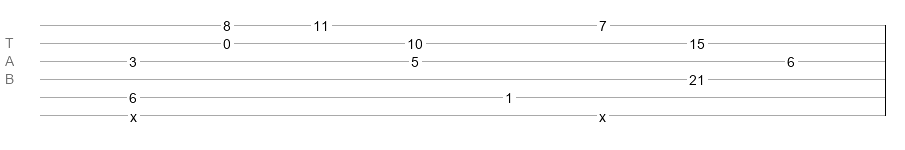0: (223, 36, 231, 46)
1: (505, 90, 513, 100)
10: (407, 36, 423, 46)
11: (313, 18, 329, 28)
15: (689, 36, 705, 46)
21: (689, 72, 705, 82)
3: (129, 54, 137, 64)
5: (411, 54, 419, 64)
6: (129, 90, 137, 100), (787, 54, 795, 64)
7: (599, 18, 607, 28)
8: (223, 18, 231, 28)
x: (130, 109, 137, 117), (599, 109, 606, 117)
